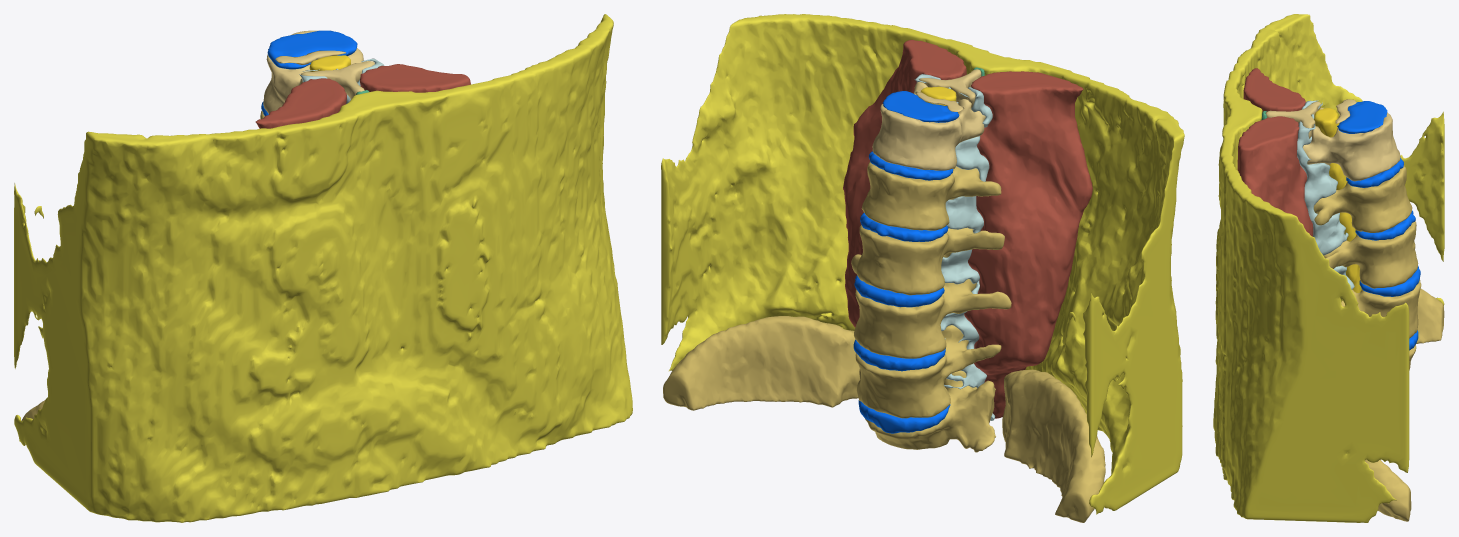
File: LPanatomy2026.fbx
The picture shows the model from 3 angles, left to right: view 1: azimuth 30°, elevation 25°; view 2: azimuth 150°, elevation 25°; view 3: azimuth 270°, elevation 25°; orthographic projection. The views are drawn at different scales.
Parts seen in each view (by area): view 1: fat, leftdeepbackmuscle, rightdeepbackmuscle, intervertebral_discs, T12vertebra, T11vertebra; view 2: fat, leftdeepbackmuscle, righthip, lefthip, intervertebral_discs, rightdeepbackmuscle, L3vertebra, L2vertebra, L4vertebra, L1vertebra, T12vertebra, Ligaments (+2 smaller); view 3: fat, rightdeepbackmuscle, T12vertebra, L1vertebra, L2vertebra, intervertebral_discs, Ligaments, leftdeepbackmuscle, spinalcord, L3vertebra, righthip, lefthip (+1 smaller).
Part boxes in pixels (x1,y1,x2,y2): fat: (14,14,632,522); leftdeepbackmuscle: (255,78,346,128); rightdeepbackmuscle: (360,64,470,92); intervertebral_discs: (261,30,357,115); T12vertebra: (263,30,370,114); T11vertebra: (275,50,374,99); fat: (661,14,1184,514); leftdeepbackmuscle: (964,71,1092,418); righthip: (663,316,859,410); lefthip: (1002,369,1105,522); intervertebral_discs: (853,91,959,433); rightdeepbackmuscle: (843,39,966,327); L3vertebra: (851,254,1011,358); L2vertebra: (856,225,1004,295); L4vertebra: (855,325,1001,418); L1vertebra: (861,161,1001,230); T12vertebra: (872,82,985,170); Ligaments: (914,74,995,420); fat: (1213,14,1444,522); rightdeepbackmuscle: (1237,116,1313,236); T12vertebra: (1303,107,1400,181); L1vertebra: (1313,165,1412,232); L2vertebra: (1324,221,1418,288); intervertebral_discs: (1337,101,1420,350); Ligaments: (1297,100,1354,289); leftdeepbackmuscle: (1243,68,1305,112); spinalcord: (1314,107,1361,292); L3vertebra: (1341,279,1421,338); righthip: (1365,459,1411,521); lefthip: (1416,288,1444,343).
Bounding box in the file's own units: 31.06 × 21.58 × 14.75.
